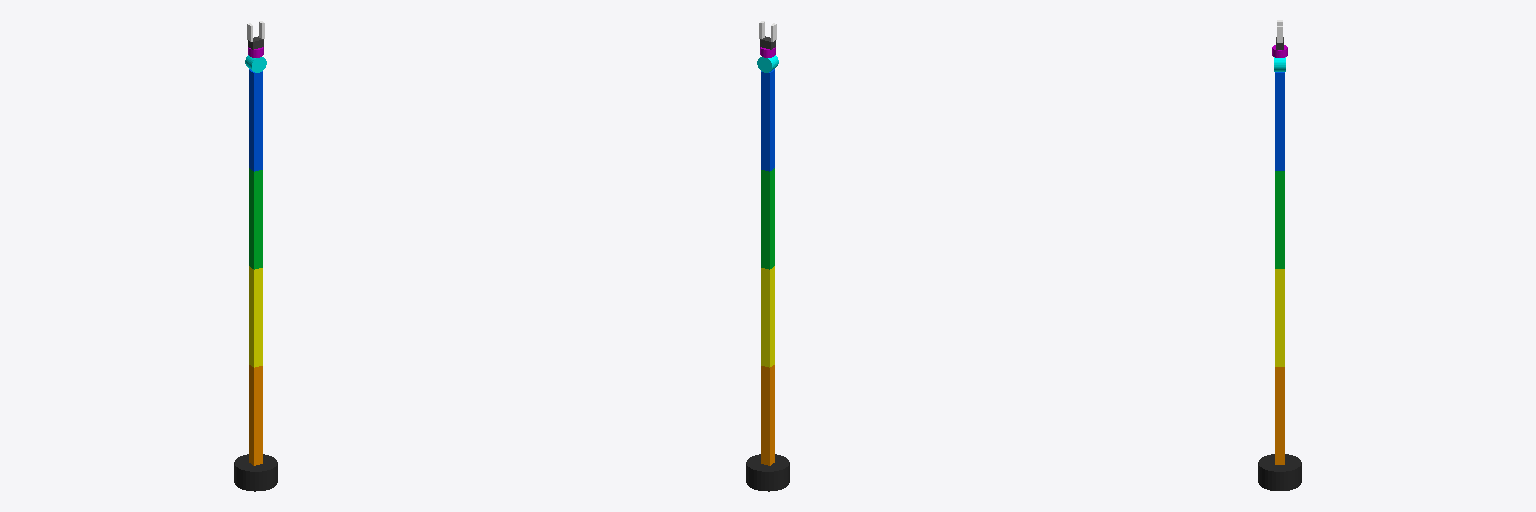
URDF robot description (my_robot):
<?xml version="1.0" ?>
<!-- =================================================================================== -->
<!-- |    This document was autogenerated by xacro from src/my_robot_description/urdf/my_robot_6D.urdf.xacro | -->
<!-- |    EDITING THIS FILE BY HAND IS NOT RECOMMENDED                                 | -->
<!-- =================================================================================== -->
<!-- Z(Yaw) - Y(Pitch) - Y(Pitch) - X(Roll) - Y(Pitch) - Z(Yaw) -->
<robot name="my_robot">
  <!-- <link name="world"/>
  
  <joint name="world_to_base_joint" type="fixed">
    <parent link="world"/>
    <child link="base_link"/>
    <origin xyz="0 0 0" rpy="0 0 0"/>
  </joint> -->
  <link name="base_link">
    <visual>
      <geometry>
        <cylinder length="0.1" radius="0.1"/>
      </geometry>
      <origin rpy="0 0 0" xyz="0 0 0.05"/>
      <material name="gray">
        <color rgba="0.2 0.2 0.2 1"/>
      </material>
    </visual>
    <collision name="base_link_collision">
      <geometry>
        <cylinder length="0.1" radius="0.1"/>
      </geometry>
      <origin rpy="0 0 0" xyz="0 0 0.05"/>
    </collision>
    <inertial>
      <origin rpy="0 0 0" xyz="0 0 0.05"/>
      <mass value="10.0"/>
      <inertia ixx="0.03333333333333334" ixy="0.0" ixz="0.0" iyy="0.03333333333333334" iyz="0.0" izz="0.05000000000000001"/>
    </inertial>
  </link>
  <link name="link1">
    <visual>
      <geometry>
        <box size="0.05 0.05 0.5"/>
      </geometry>
      <origin rpy="0 0 0" xyz="0 0 0.25"/>
      <material name="orange">
        <color rgba="1 0.6 0 1"/>
      </material>
    </visual>
    <collision name="link1_collision">
      <geometry>
        <box size="0.05 0.05 0.5"/>
      </geometry>
      <origin rpy="0 0 0" xyz="0 0 0.25"/>
    </collision>
    <inertial>
      <origin rpy="0 0 0" xyz="0 0 0.25"/>
      <mass value="1.0"/>
      <inertia ixx="0.021041666666666667" ixy="0.0" ixz="0.0" iyy="0.00041666666666666675" iyz="0.0" izz="0.021041666666666667"/>
    </inertial>
  </link>
  <!-- joint1 : Z (Base Yaw) -->
  <joint name="joint1" type="revolute">
    <parent link="base_link"/>
    <child link="link1"/>
    <origin rpy="0 0 0" xyz="0 0 0.1"/>
    <axis xyz="0 0 1"/>
    <limit effort="100" lower="-3.14159" upper="3.14159" velocity="1.0"/>
  </joint>
  <link name="link2">
    <visual>
      <geometry>
        <box size="0.05 0.05 0.5"/>
      </geometry>
      <origin rpy="0 0 0" xyz="0 0 0.25"/>
      <material name="yellow">
        <color rgba="1 1 0 1"/>
      </material>
    </visual>
    <collision name="link2_collision">
      <geometry>
        <box size="0.05 0.05 0.5"/>
      </geometry>
      <origin rpy="0 0 0" xyz="0 0 0.25"/>
    </collision>
    <inertial>
      <origin rpy="0 0 0" xyz="0 0 0.25"/>
      <mass value="1.0"/>
      <inertia ixx="0.021041666666666667" ixy="0.0" ixz="0.0" iyy="0.00041666666666666675" iyz="0.0" izz="0.021041666666666667"/>
    </inertial>
  </link>
  <!-- joint2 : Y (Shoulder Pitch) -->
  <joint name="joint2" type="revolute">
    <parent link="link1"/>
    <child link="link2"/>
    <origin rpy="0 0 0" xyz="0 0 0.5"/>
    <axis xyz="0 1 0"/>
    <limit effort="100" lower="-1.57079" upper="1.57079" velocity="1.0"/>
  </joint>
  <link name="link3">
    <visual>
      <geometry>
        <box size="0.05 0.05 0.5"/>
      </geometry>
      <origin rpy="0 0 0" xyz="0 0 0.25"/>
      <material name="green">
        <color rgba="0 0.8 0.2 1"/>
      </material>
    </visual>
    <collision name="link3_collision">
      <geometry>
        <box size="0.05 0.05 0.5"/>
      </geometry>
      <origin rpy="0 0 0" xyz="0 0 0.25"/>
    </collision>
    <inertial>
      <origin rpy="0 0 0" xyz="0 0 0.25"/>
      <mass value="1.0"/>
      <inertia ixx="0.021041666666666667" ixy="0.0" ixz="0.0" iyy="0.00041666666666666675" iyz="0.0" izz="0.021041666666666667"/>
    </inertial>
  </link>
  <!-- joint3 : Y (Elbow Pitch) -->
  <joint name="joint3" type="revolute">
    <parent link="link2"/>
    <child link="link3"/>
    <origin rpy="0 0 0" xyz="0 0 0.5"/>
    <axis xyz="0 1 0"/>
    <limit effort="100" lower="-2.0944" upper="2.0944" velocity="1.5"/>
  </joint>
  <link name="link4">
    <visual>
      <geometry>
        <box size="0.05 0.05 0.5"/>
      </geometry>
      <origin rpy="0 0 0" xyz="0 0 0.25"/>
      <material name="blue">
        <color rgba="0 0.4 1 1"/>
      </material>
    </visual>
    <collision name="link4_collision">
      <geometry>
        <box size="0.05 0.05 0.5"/>
      </geometry>
      <origin rpy="0 0 0" xyz="0 0 0.25"/>
    </collision>
    <inertial>
      <origin rpy="0 0 0" xyz="0 0 0.25"/>
      <mass value="1.0"/>
      <inertia ixx="0.021041666666666667" ixy="0.0" ixz="0.0" iyy="0.00041666666666666675" iyz="0.0" izz="0.021041666666666667"/>
    </inertial>
  </link>
  <!-- joint4 : X (Wrist Roll) -->
  <joint name="joint4" type="revolute">
    <parent link="link3"/>
    <child link="link4"/>
    <origin rpy="0 0 0" xyz="0 0 0.5"/>
    <axis xyz="1 0 0"/>
    <limit effort="100" lower="-3.14159" upper="3.14159" velocity="2.0"/>
  </joint>
  <!-- link 5 -->
  <link name="link_wrist_pitch">
    <visual>
      <geometry>
        <cylinder length="0.06" radius="0.04"/>
      </geometry>
      <material name="cyan">
        <color rgba="0 1 1 1"/>
      </material>
      <origin rpy="1.5708 0 0" xyz="0 0 0.04"/>
    </visual>
    <collision name="wrist_pitch_collision">
      <geometry>
        <cylinder length="0.06" radius="0.04"/>
      </geometry>
      <origin rpy="1.5708 0 0" xyz="0 0 0.04"/>
    </collision>
    <inertial>
      <origin rpy="0 0 0" xyz="0 0 0.04"/>
      <mass value="0.3"/>
      <inertia ixx="0.00020999999999999998" ixy="0.0" ixz="0.0" iyy="0.00020999999999999998" iyz="0.0" izz="0.00024"/>
    </inertial>
  </link>
  <!-- joint5 : Y (Wrist Pitch) -->
  <joint name="joint5" type="revolute">
    <parent link="link4"/>
    <child link="link_wrist_pitch"/>
    <origin rpy="0 0 0" xyz="0 0 0.5"/>
    <axis xyz="0 1 0"/>
    <limit effort="50" lower="-1.5708" upper="1.5708" velocity="2.5"/>
  </joint>
  <!-- link 6 -->
  <link name="link_wrist_yaw">
    <visual>
      <geometry>
        <cylinder length="0.04" radius="0.035"/>
      </geometry>
      <material name="purple">
        <color rgba="0.8 0 0.8 1"/>
      </material>
      <origin rpy="0 0 0" xyz="0 0 0.02"/>
    </visual>
    <collision name="wrist_yaw_collision">
      <geometry>
        <cylinder length="0.04" radius="0.035"/>
      </geometry>
      <origin rpy="0 0 0" xyz="0 0 0.02"/>
    </collision>
    <inertial>
      <origin rpy="0 0 0" xyz="0 0 0.02"/>
      <mass value="0.2"/>
      <inertia ixx="8.791666666666668e-05" ixy="0.0" ixz="0.0" iyy="8.791666666666668e-05" iyz="0.0" izz="0.00012250000000000002"/>
    </inertial>
  </link>
  <!-- joint6 : Z (Wrist Yaw) -->
  <joint name="joint6" type="revolute">
    <parent link="link_wrist_pitch"/>
    <child link="link_wrist_yaw"/>
    <origin rpy="0 0 0" xyz="0 0 0.08"/>
    <axis xyz="0 0 1"/>
    <limit effort="50" lower="-3.14159" upper="3.14159" velocity="3.0"/>
  </joint>
  <!-- TCP -->
  <link name="tool0">
    <visual>
      <geometry>
        <sphere radius="0.01"/>
      </geometry>
      <material name="red">
        <color rgba="1 0 0 1"/>
      </material>
    </visual>
    <!-- <collision name="tool0_collision">
      <geometry><sphere radius="0.01"/></geometry>
    </collision>
    <inertial>
      <origin xyz="0 0 0" rpy="0 0 0"/>
      <mass value="0.001"/>
      <inertia ixx="1e-7" ixy="0" ixz="0" iyy="1e-7" iyz="0" izz="1e-7"/>
    </inertial> -->
  </link>
  <joint name="tool0_fixed" type="fixed">
    <parent link="link_wrist_yaw"/>
    <child link="tool0"/>
    <origin rpy="0 0 0" xyz="0 0 0.04"/>
  </joint>
  <!-- Gripper Base -->
  <link name="gripper_base">
    <visual>
      <geometry>
        <box size="0.06 0.04 0.04"/>
      </geometry>
      <material name="dark_gray">
        <color rgba="0.3 0.3 0.3 1"/>
      </material>
      <origin rpy="0 0 0" xyz="0 0 0.02"/>
    </visual>
    <collision name="gripper_base_collision">
      <geometry>
        <box size="0.06 0.04 0.04"/>
      </geometry>
      <origin rpy="0 0 0" xyz="0 0 0.02"/>
    </collision>
    <inertial>
      <origin rpy="0 0 0" xyz="0 0 0.02"/>
      <mass value="0.1"/>
      <inertia ixx="2.6666666666666667e-05" ixy="0.0" ixz="0.0" iyy="4.3333333333333334e-05" iyz="0.0" izz="4.3333333333333334e-05"/>
    </inertial>
  </link>
  <joint name="gripper_base_fixed" type="fixed">
    <parent link="tool0"/>
    <child link="gripper_base"/>
    <origin rpy="0 0 0" xyz="0 0 0"/>
  </joint>
  <!-- Finger1 -->
  <link name="finger1">
    <visual>
      <geometry>
        <box size="0.015 0.03 0.08"/>
      </geometry>
      <origin rpy="0 0 0" xyz="0 0 0.04"/>
      <material name="white">
        <color rgba="1 1 1 1"/>
      </material>
    </visual>
    <collision name="finger1_collision">
      <geometry>
        <box size="0.015 0.03 0.08"/>
      </geometry>
      <origin rpy="0 0 0" xyz="0 0 0.04"/>
    </collision>
    <inertial>
      <origin rpy="0 0 0" xyz="0 0 0.04"/>
      <mass value="0.05"/>
      <inertia ixx="3.0416666666666666e-05" ixy="0.0" ixz="0.0" iyy="2.760416666666667e-05" iyz="0.0" izz="4.6875e-06"/>
    </inertial>
  </link>
  <joint name="joint_finger1" type="prismatic">
    <parent link="gripper_base"/>
    <child link="finger1"/>
    <origin rpy="0 0 0" xyz="-0.03 0 0.04"/>
    <axis xyz="1 0 0"/>
    <limit effort="20" lower="0.0" upper="0.025" velocity="0.2"/>
  </joint>
  <!-- Finger2 -->
  <link name="finger2">
    <visual>
      <geometry>
        <box size="0.015 0.03 0.08"/>
      </geometry>
      <origin rpy="0 0 0" xyz="0 0 0.04"/>
      <material name="white"/>
    </visual>
    <collision name="finger2_collision">
      <geometry>
        <box size="0.015 0.03 0.08"/>
      </geometry>
      <origin rpy="0 0 0" xyz="0 0 0.04"/>
    </collision>
    <inertial>
      <origin rpy="0 0 0" xyz="0 0 0.04"/>
      <mass value="0.05"/>
      <inertia ixx="3.0416666666666666e-05" ixy="0.0" ixz="0.0" iyy="2.760416666666667e-05" iyz="0.0" izz="4.6875e-06"/>
    </inertial>
  </link>
  <joint name="joint_finger2" type="prismatic">
    <parent link="gripper_base"/>
    <child link="finger2"/>
    <origin rpy="0 0 0" xyz="0.03 0 0.04"/>
    <axis xyz="-1 0 0"/>
    <limit effort="20" lower="0.0" upper="0.025" velocity="0.2"/>
  </joint>
</robot>

--- What the picture shows (computed from the rendered views, not written in the file) ---
3 views of the same robot in one strip: view 1: azimuth 30°, elevation 25°; view 2: azimuth 150°, elevation 25°; view 3: azimuth 270°, elevation 25° (orthographic).
Robot: my_robot — 11 links, 10 joints (6 revolute, 2 prismatic, 2 fixed); root link base_link; default pose: every joint at zero.
Visible links, largest first — view 1: link4, link1, link2, link3, base_link; view 2: link4, link1, link2, link3, base_link; view 3: base_link, link4, link1, link2, link3.
Boxes of the visible links, x1,y1,x2,y2 form: link4: [249, 69, 262, 171]; link1: [249, 365, 262, 465]; link2: [249, 266, 262, 367]; link3: [249, 168, 262, 269]; base_link: [234, 454, 277, 491]; link4: [761, 69, 774, 171]; link1: [761, 365, 774, 465]; link2: [761, 266, 774, 367]; link3: [761, 168, 774, 269]; base_link: [746, 454, 789, 491]; base_link: [1258, 454, 1301, 490]; link4: [1275, 72, 1284, 170]; link1: [1275, 367, 1284, 464]; link2: [1275, 269, 1284, 366]; link3: [1275, 171, 1284, 268].
Size in the robot's own frame: 0.2 by 0.2 by 2.34 metres.
Geometry: primitives only (box / cylinder / sphere), no mesh files.
